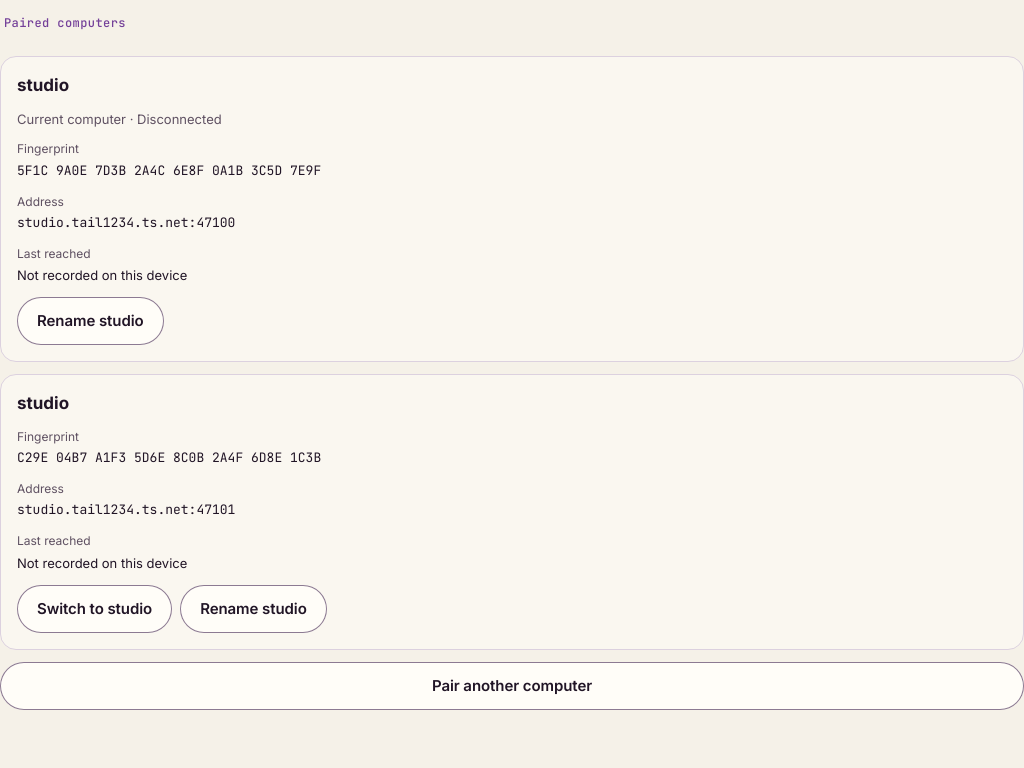
Scenario: keeps the sheet open and says why when the name isn't saved
The image size is (1024, 768).
Click the button "Rename studio" below "studio.tail1234.ts.net:47100": [90, 321] box [17,297,164,345]
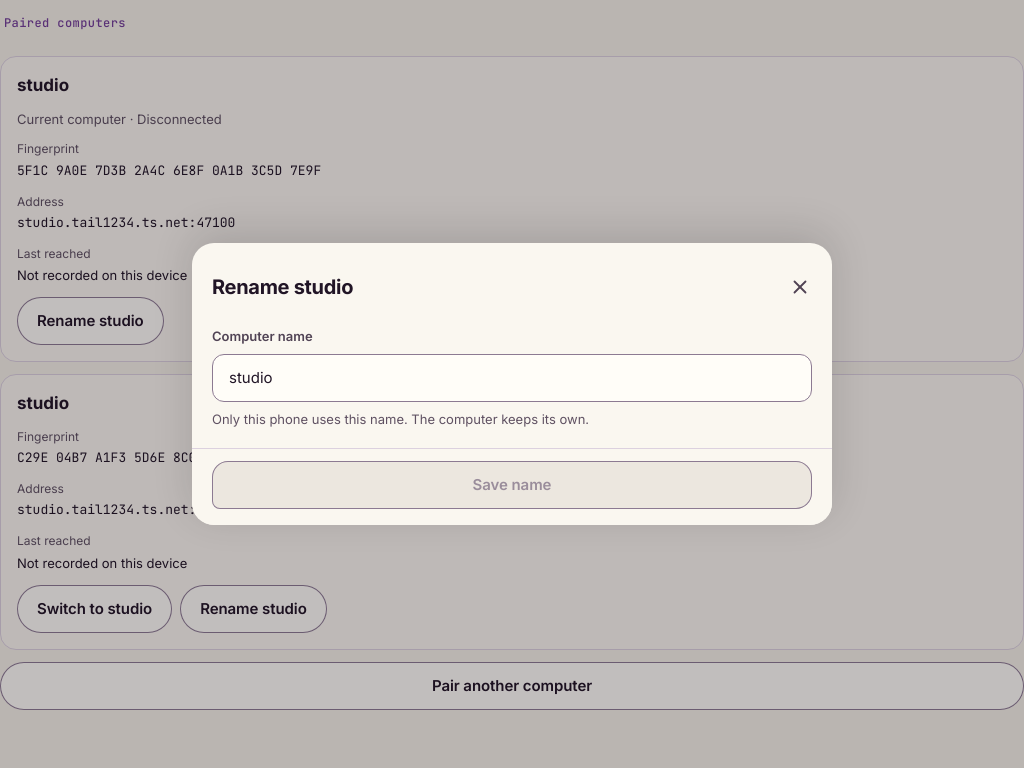
Replace the text in the field labelled "Computer name" with "Desk": [512, 378] box [212,354,812,402]
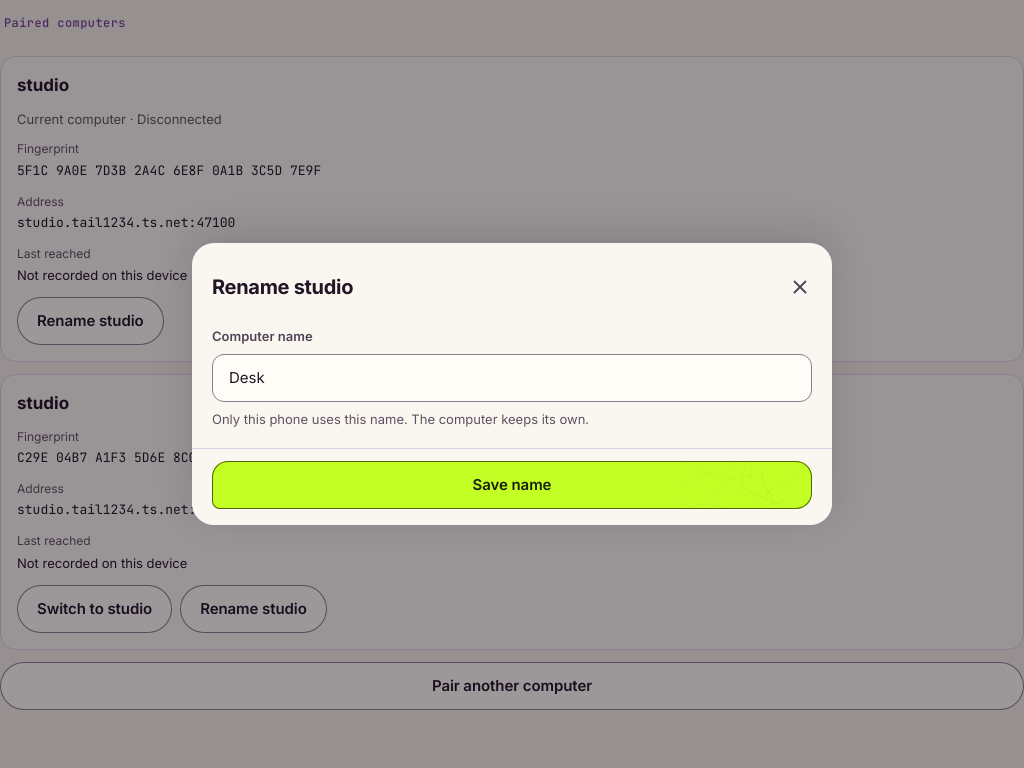
Click the button "Save name": [512, 485] box [212,461,812,509]
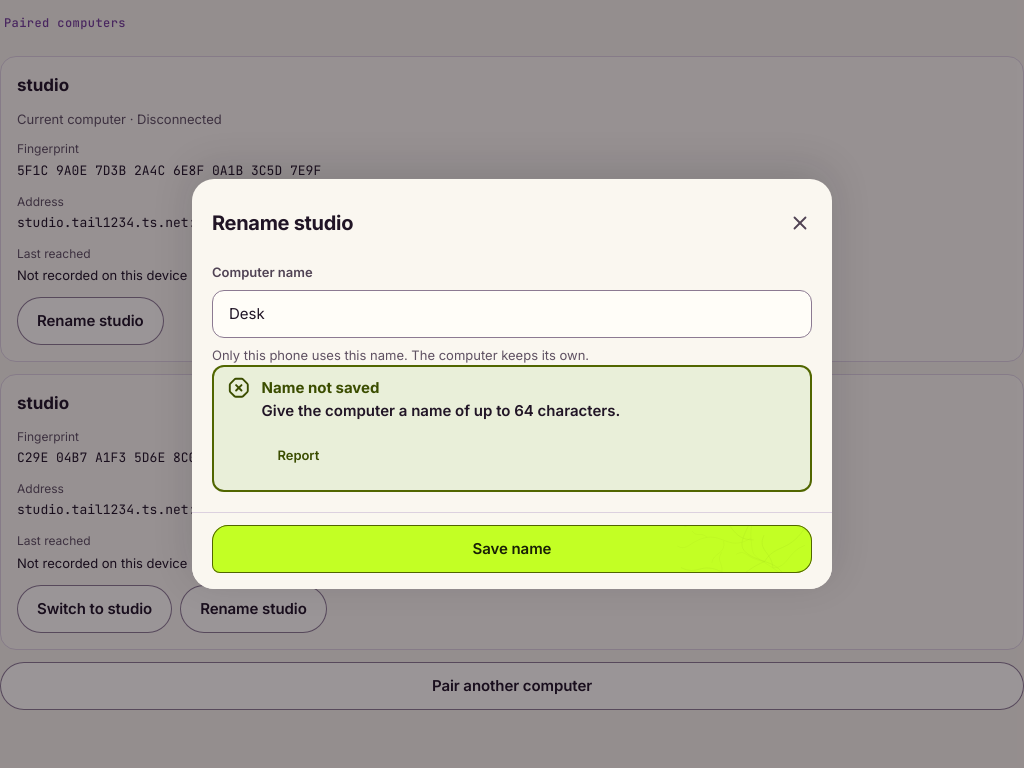
expect the text "Give the computer a name of up to 64 characters." is shown: met, box [262,401,620,420]
